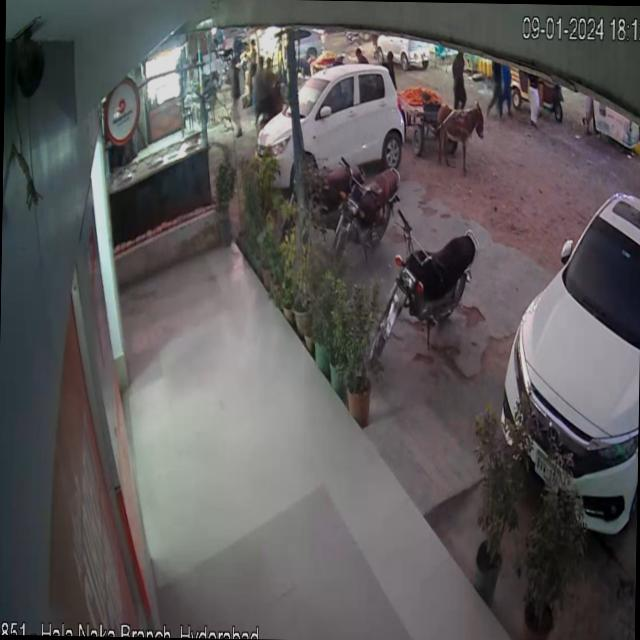Car: (496, 143, 640, 548), (233, 48, 409, 178)
Motorcycle: (368, 197, 487, 370), (336, 155, 406, 253)
